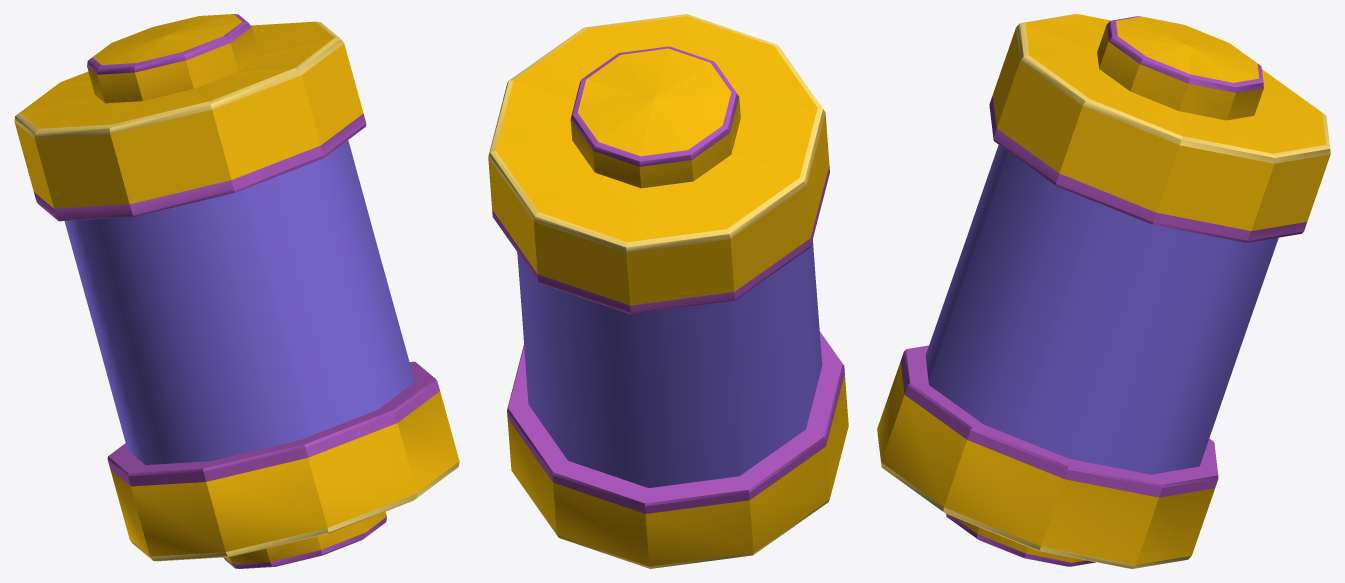
The model's file is Food Power.FBX.
3 views of the same model, side by side, from view 1: azimuth 30°, elevation 25°; view 2: azimuth 150°, elevation 25°; view 3: azimuth 270°, elevation 25° (orthographic).
Parts seen in each view (by area): view 1: polySurface12, Object001; view 2: polySurface12, Object001; view 3: polySurface12, Object001.
Part boxes in pixels (x1,y1,x2,y2): polySurface12: (14, 14, 459, 568); Object001: (64, 140, 414, 464); polySurface12: (488, 14, 848, 568); Object001: (517, 239, 822, 487); polySurface12: (877, 14, 1330, 568); Object001: (925, 145, 1278, 474).
Size of the model in its own units: 8.74 by 12.32 by 10.04.
